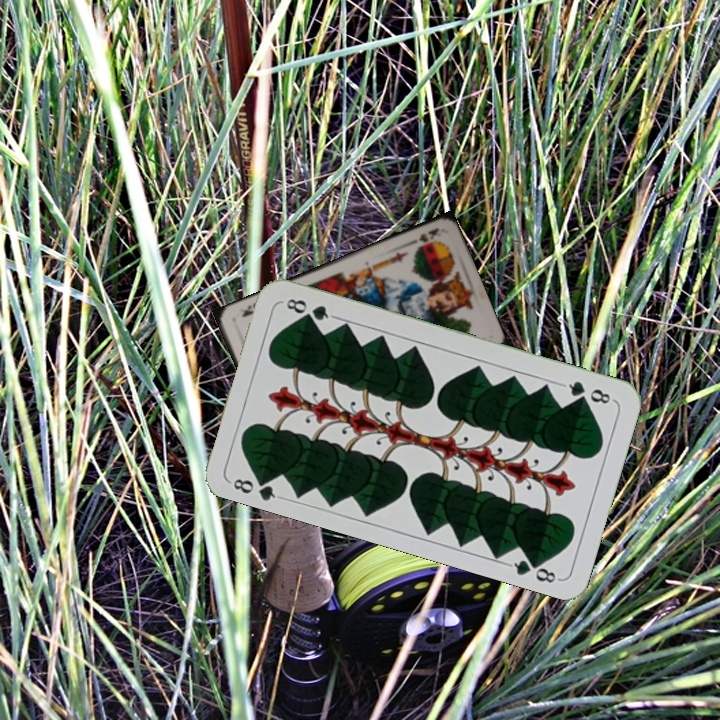G8: (226, 470, 283, 504), (558, 377, 616, 407)
SK: (408, 224, 441, 246)
